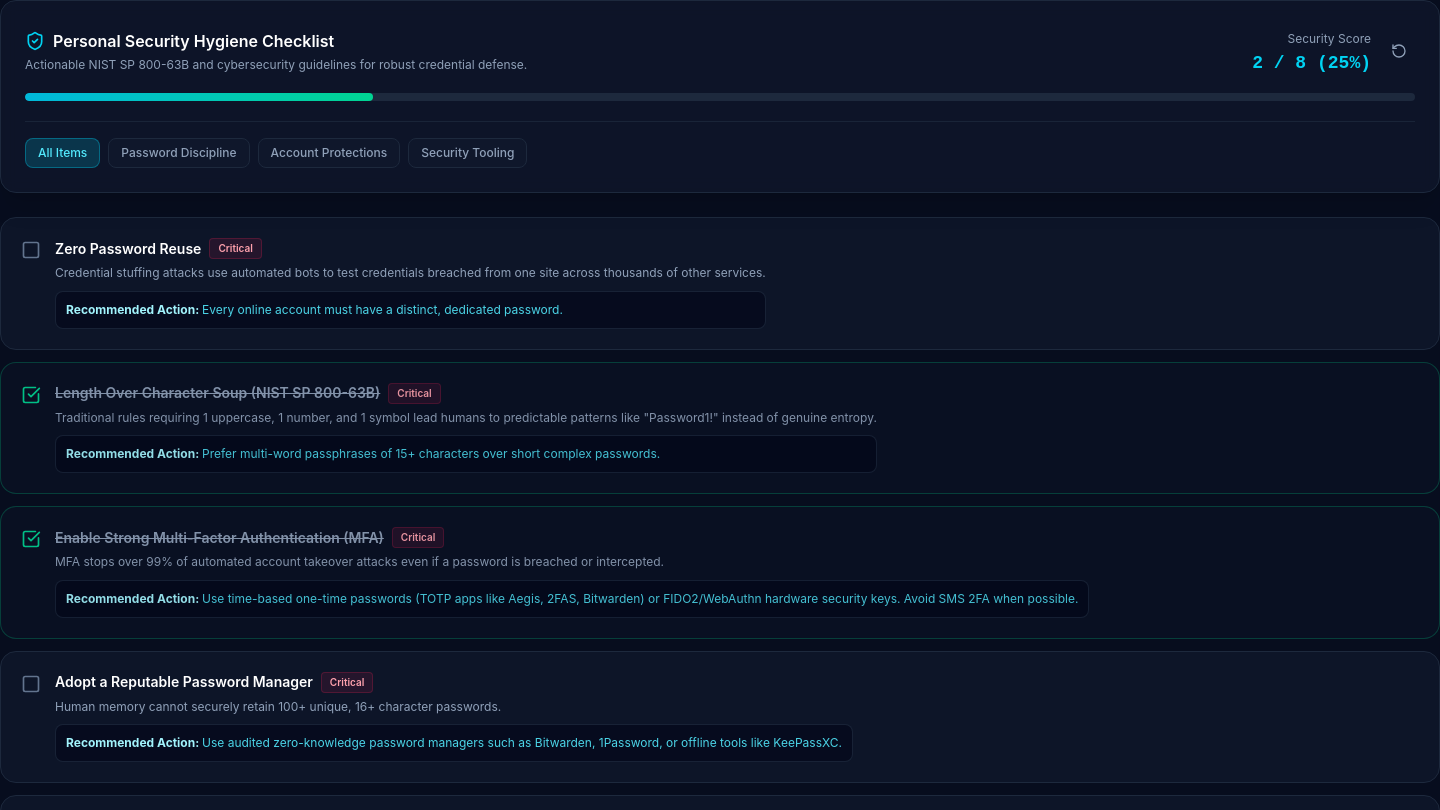
Test: PassGuard Component UI Suite › renders SecurityChecklist and updates score on item click
The width and height of the screenshot is (1440, 810).
Expected: the heading "Personal Security Hygiene Checklist" is shown, [53, 29, 334, 53]
Click item to toggle
Click the heading "Zero Password Reuse".
click(128, 248)  # box [55, 238, 201, 258]
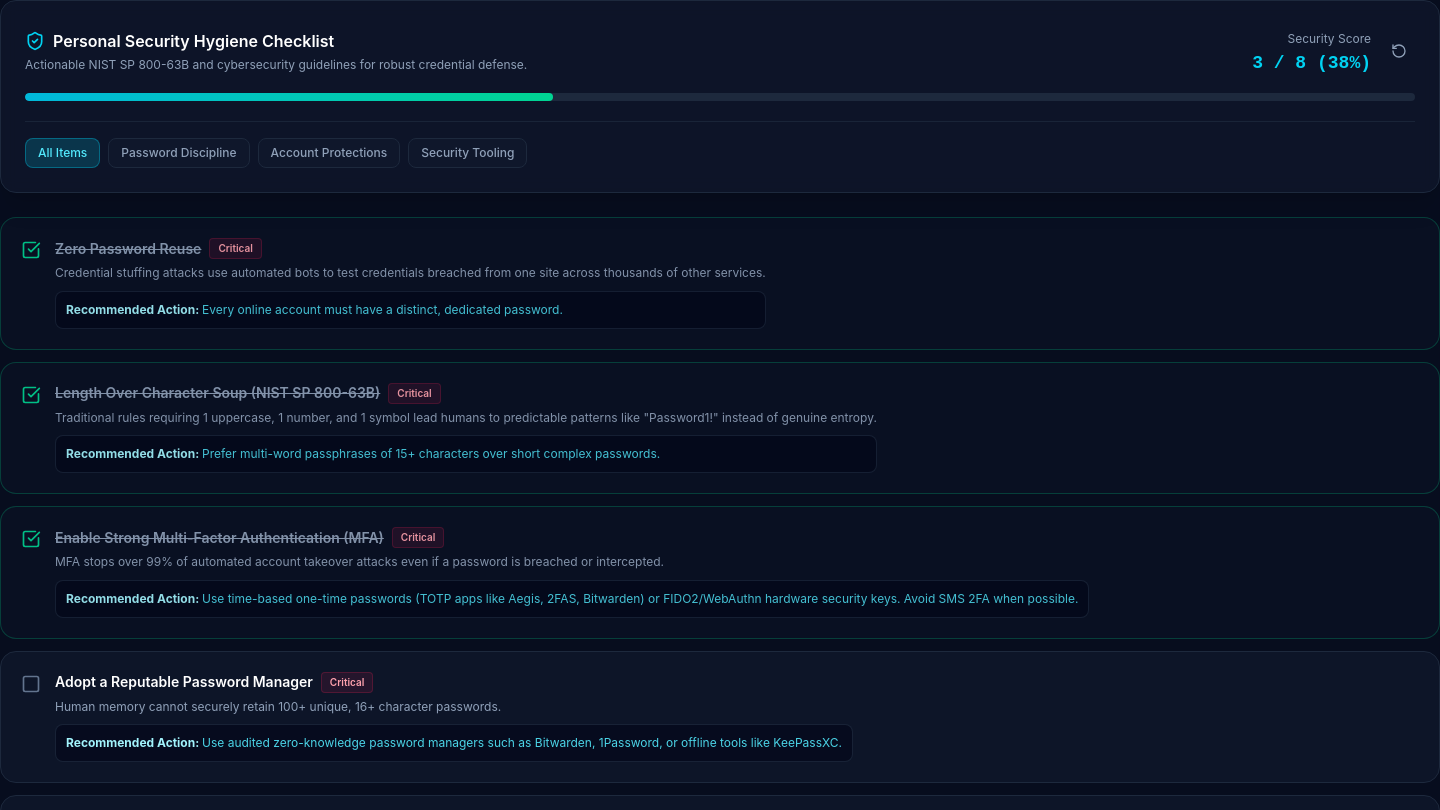
Verify reset checklist button exists
Click the button named "Reset checklist".
click(1399, 51)  # box [1383, 35, 1415, 67]
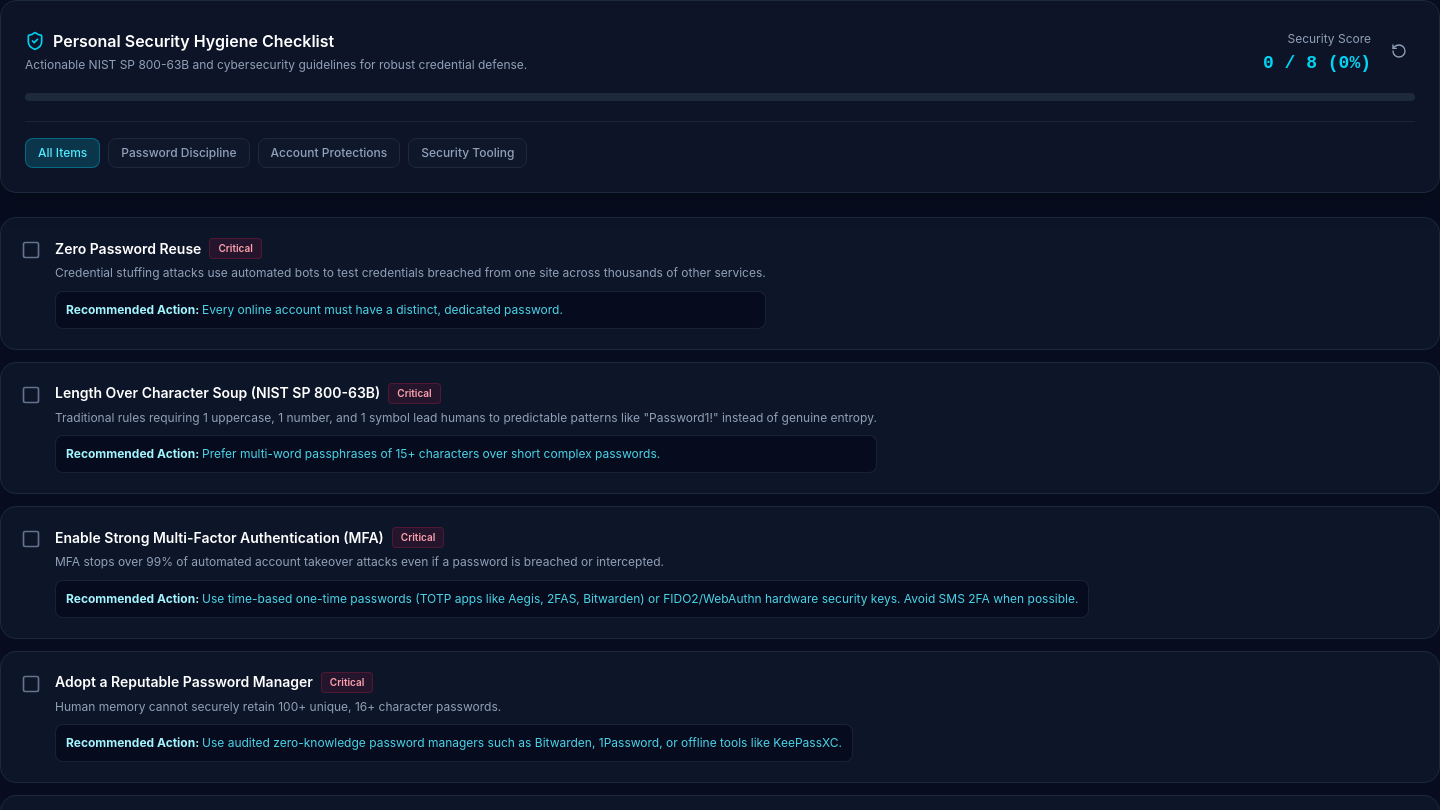
Expected: the text "0 / 8 (0%)" is shown, [1263, 49, 1371, 77]
